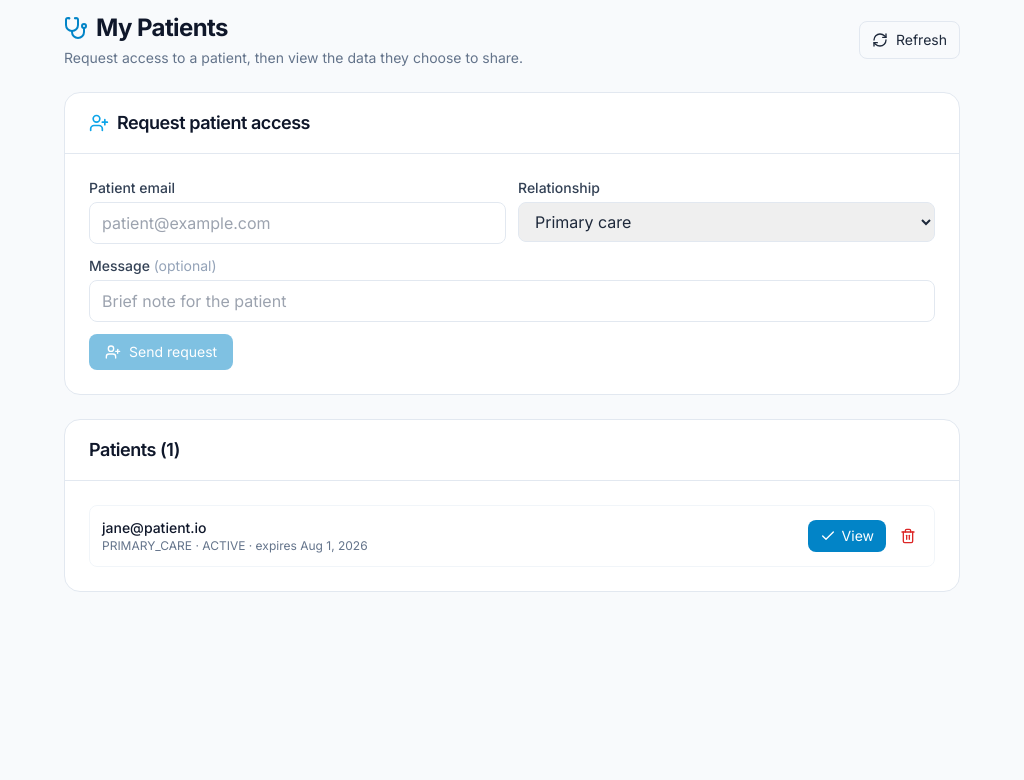
Test case: MyPatientsPage › renders consent-granted sections from relationship.permissions (nested shape)
The image size is (1024, 780).
Click the button "View".
click(847, 536)  # box x1=808 y1=520 x2=886 y2=552
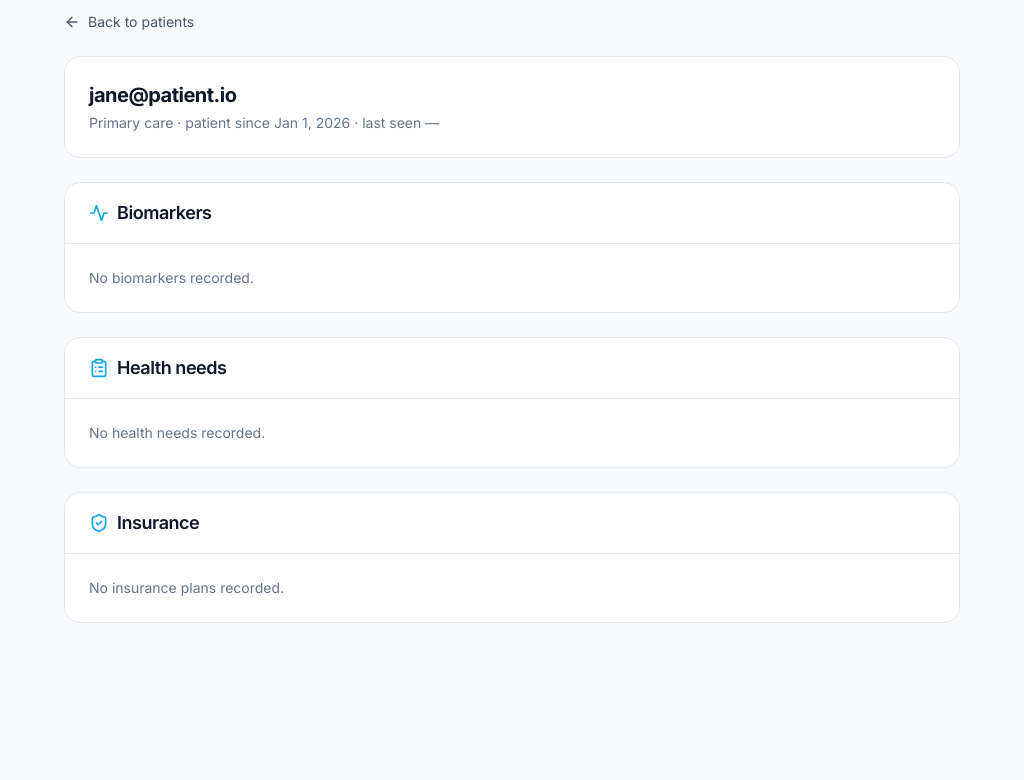
Result: the heading "Biomarkers" is shown at x1=117 y1=199 x2=212 y2=227
Result: the heading "Health needs" is shown at x1=117 y1=354 x2=226 y2=382
Result: the heading "Insurance" is shown at x1=117 y1=509 x2=199 y2=537
